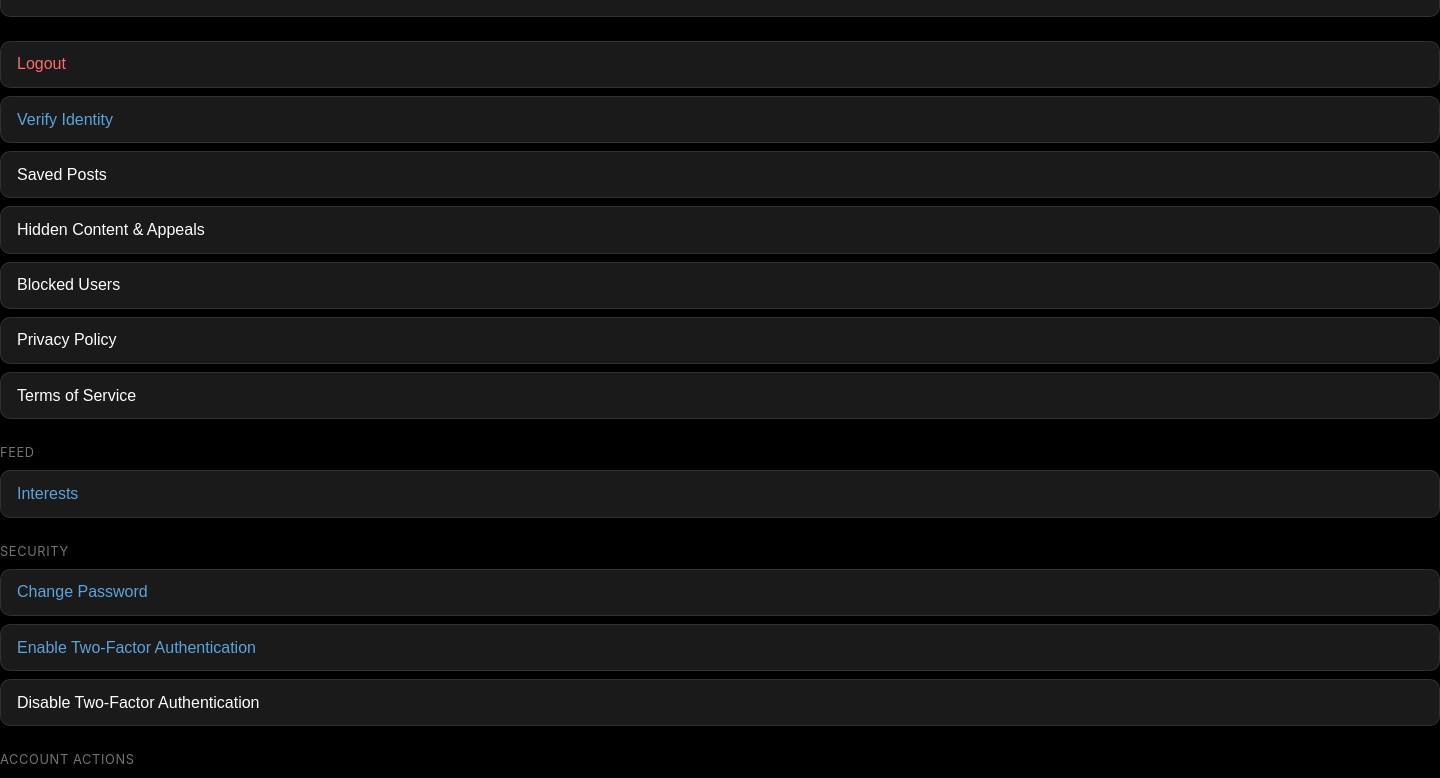
Test: terms of service can be shown
The width and height of the screenshot is (1440, 778).
(page scrolled)
What coordinates should you click on to do the following:
click the button "Terms of Service"
I would click on:
 (77, 395)
Its box is left=0, top=372, right=1439, bottom=419.
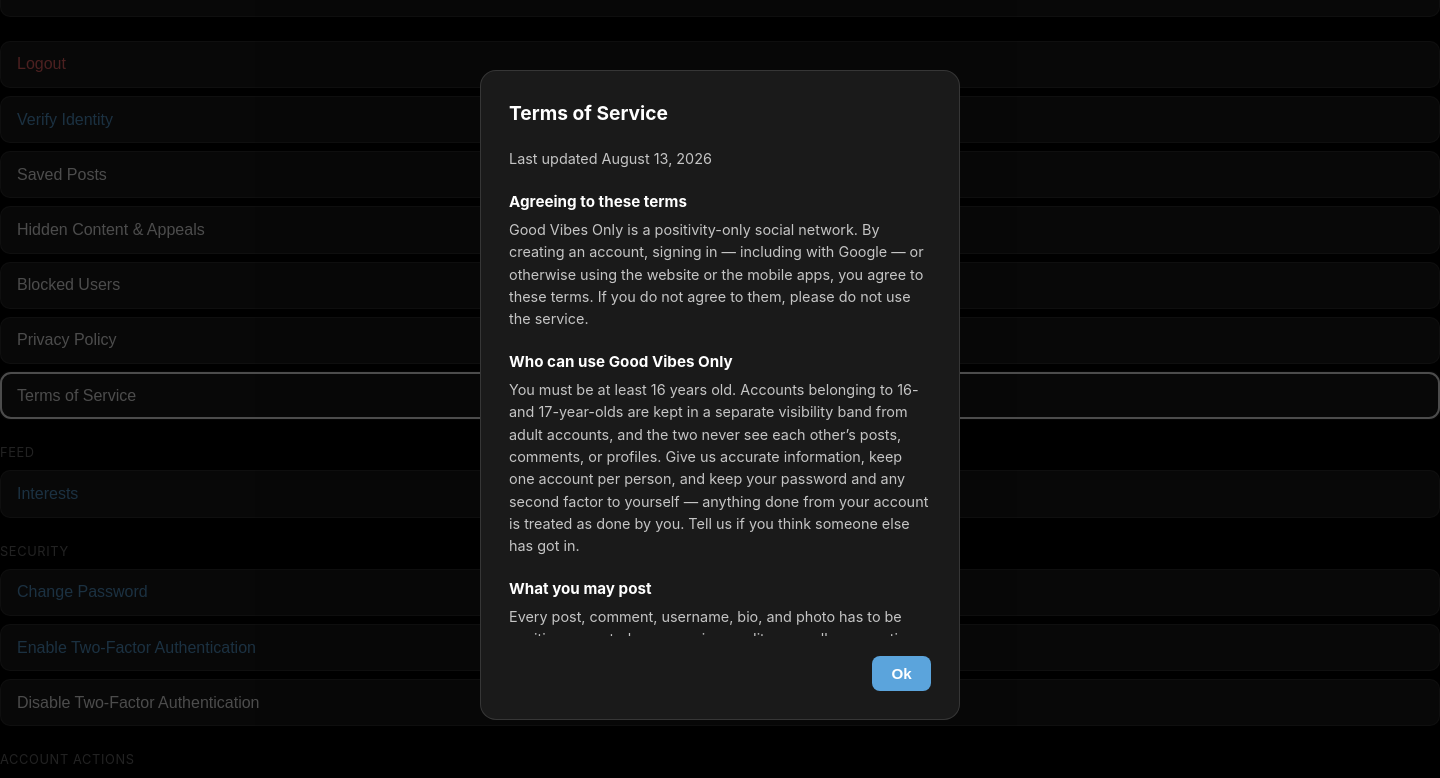
expect the heading "What you may post" is shown: met, box left=509, top=579, right=652, bottom=598
